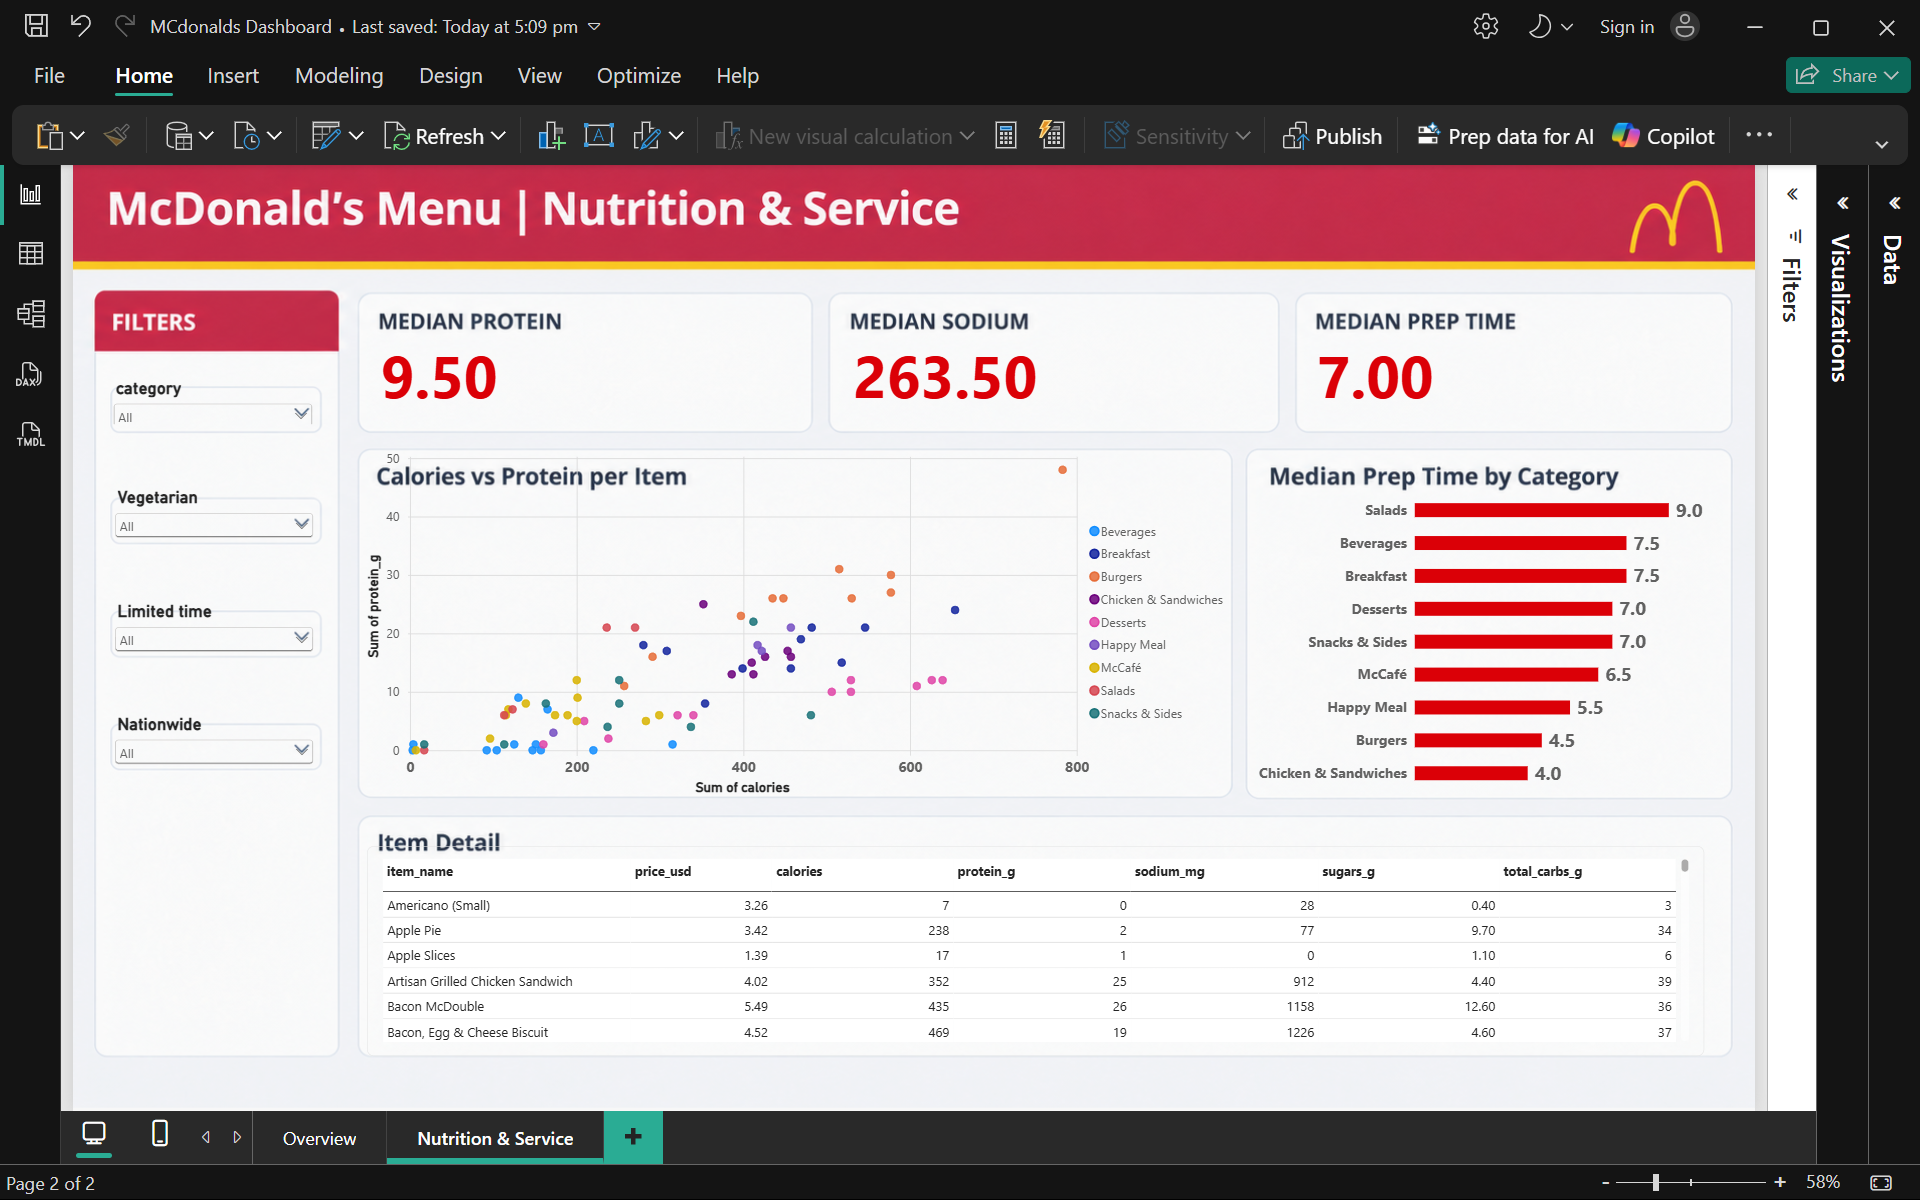

The dashboard page shown, as its layout file describes it:
{"tool":"powerbi","page":{"name":"Nutrition & Service","canvas":[1920,1080],"ordinal":1},"visuals":[{"type":"cardVisual","fields":{"Data":["final_mcdonalds_menu.Median Protein"]},"box":[335.3,150.1,242.7,175.2],"z":0},{"type":"cardVisual","fields":{"Data":["final_mcdonalds_menu.Median Sodium"]},"box":[875.8,150.1,242.7,175.2],"z":1000},{"type":"cardVisual","fields":{"Data":["final_mcdonalds_menu.Median Prep Time"]},"box":[1403.7,150.1,242.7,175.2],"z":2000},{"type":"scatterChart","fields":{"X":["Sum(final_mcdonalds_menu.calories)"],"Y":["Sum(final_mcdonalds_menu.protein_g)"],"Category":["final_mcdonalds_menu.item_name"],"Series":["final_mcdonalds_menu.category"]},"box":[334.3,323.7,988,395.2],"z":3000},{"type":"clusteredBarChart","fields":{"Category":["final_mcdonalds_menu.category"],"Y":["final_mcdonalds_menu.Median Prep Time"]},"box":[1353.7,362.8,507.9,355.3],"z":4000},{"type":"tableEx","fields":{"Values":["final_mcdonalds_menu.item_name","final_mcdonalds_menu.price_usd","final_mcdonalds_menu.calories","final_mcdonalds_menu.protein_g","final_mcdonalds_menu.sodium_mg","final_mcdonalds_menu.sugars_g","final_mcdonalds_menu.total_carbs_g"]},"box":[335.3,778.2,1526.3,240.2],"z":5000},{"type":"slicer","fields":{"Values":["final_mcdonalds_menu.category"]},"box":[41.8,242.4,237.1,52.9],"z":6000},{"type":"slicer","fields":{"Values":["final_mcdonalds_menu.is_vegetarian"]},"box":[42.5,368.3,236.2,61.3],"z":6001},{"type":"slicer","fields":{"Values":["final_mcdonalds_menu.is_limited_time"]},"box":[42.9,497.9,236.2,61.3],"z":6002},{"type":"slicer","fields":{"Values":["final_mcdonalds_menu.is_nationwide"]},"box":[42.1,626.4,236.4,61.4],"z":6003}]}

Visuals, with their boxes on the page's 1920x1080 design canvas (x1, y1, x2, y2). These are canvas units, not pixel positions in the 1920x1200 screenshot, which may show the page scaled, cropped or inside an application window:
cardVisual - final_mcdonalds_menu.Median Protein: region(335, 150, 578, 325)
cardVisual - final_mcdonalds_menu.Median Sodium: region(876, 150, 1118, 325)
cardVisual - final_mcdonalds_menu.Median Prep Time: region(1404, 150, 1646, 325)
scatterChart - Sum(final_mcdonalds_menu.calories) x Sum(final_mcdonalds_menu.protein_g): region(334, 324, 1322, 719)
clusteredBarChart - final_mcdonalds_menu.category x final_mcdonalds_menu.Median Prep Time: region(1354, 363, 1862, 718)
tableEx - final_mcdonalds_menu.item_name x final_mcdonalds_menu.price_usd: region(335, 778, 1862, 1018)
slicer - final_mcdonalds_menu.category: region(42, 242, 279, 295)
slicer - final_mcdonalds_menu.is_vegetarian: region(42, 368, 279, 430)
slicer - final_mcdonalds_menu.is_limited_time: region(43, 498, 279, 559)
slicer - final_mcdonalds_menu.is_nationwide: region(42, 626, 278, 688)
